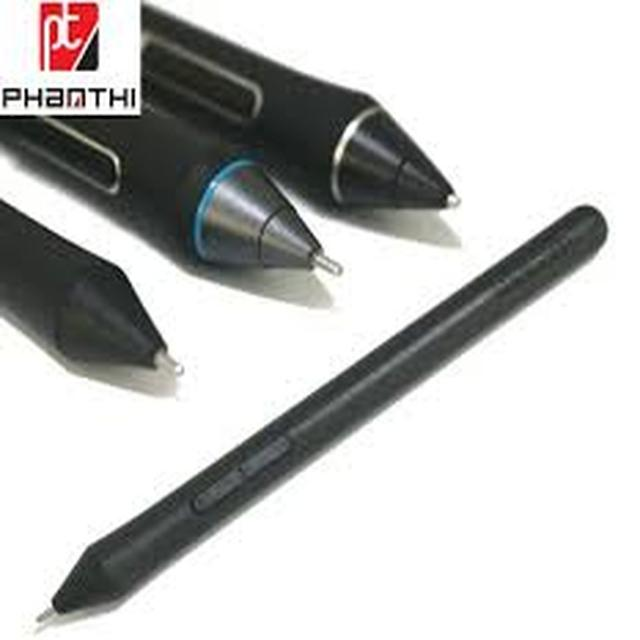pen: (38, 210, 594, 630), (160, 4, 439, 239), (108, 135, 364, 301), (0, 211, 196, 394)
